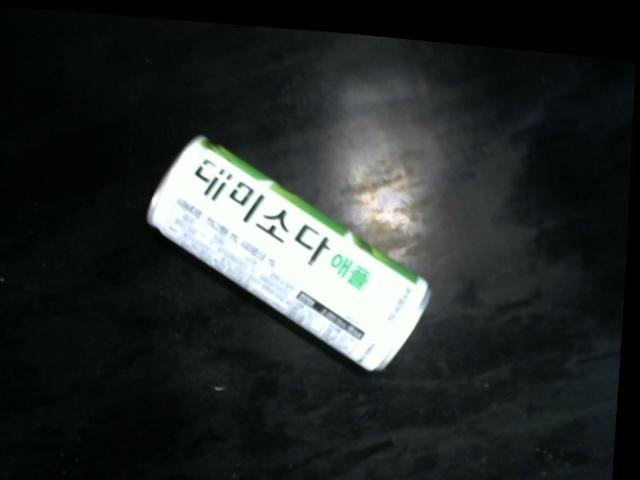can: (148, 127, 438, 365)
